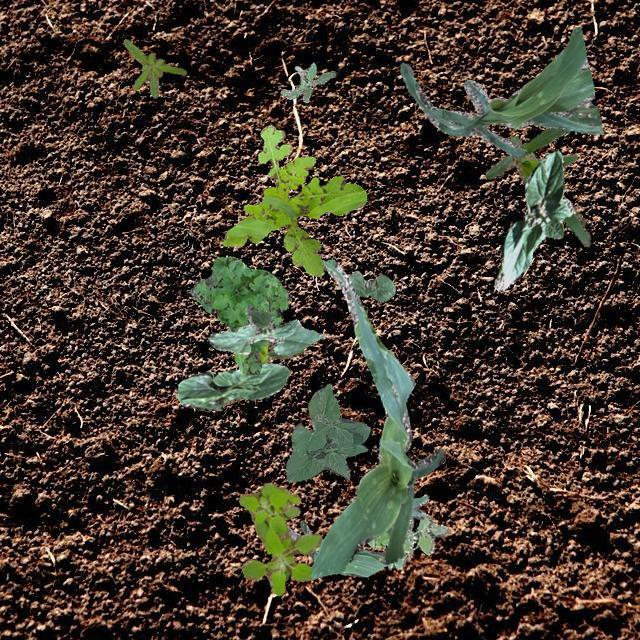crop: (310, 258, 444, 578), (399, 27, 602, 156), (484, 127, 590, 246), (286, 494, 428, 576), (494, 150, 574, 290), (284, 382, 370, 480), (208, 304, 322, 354), (218, 338, 302, 404), (176, 362, 288, 409), (346, 270, 394, 302)
weed: (220, 124, 366, 276), (188, 255, 288, 374), (238, 482, 322, 594), (366, 512, 449, 568), (122, 38, 186, 98), (280, 62, 334, 102)
